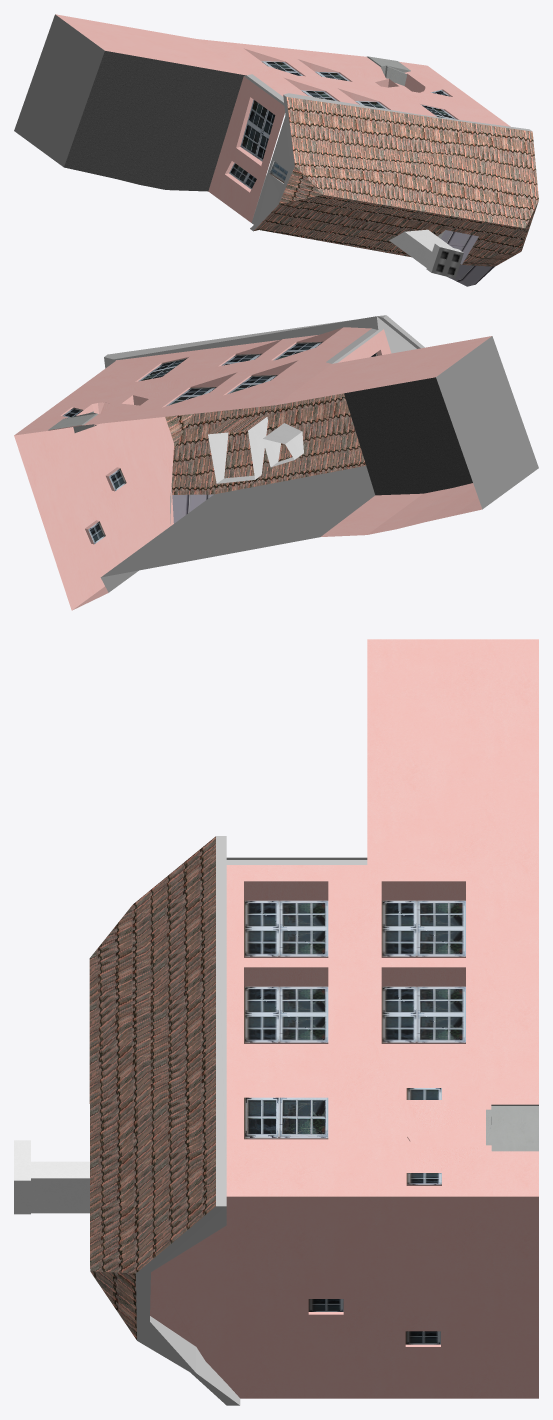
The model's file is Pikk_51_3-origo.obj.
3 renders of one model, top to bottom at view 1: azimuth 30°, elevation 25°; view 2: azimuth 150°, elevation 25°; view 3: azimuth 270°, elevation 25°, orthographic. The views are drawn at different scales.
Visible parts, largest first — view 1: Pikk_51_3; view 2: Pikk_51_3; view 3: Pikk_51_3.
Boxes of the visible parts, x1=… form: Pikk_51_3: x1=14, y1=14, x2=538, y2=286; Pikk_51_3: x1=14, y1=315, x2=538, y2=610; Pikk_51_3: x1=14, y1=639, x2=538, y2=1405.
Bounding box in the file's own units: 18.75 × 12 × 11.66.
